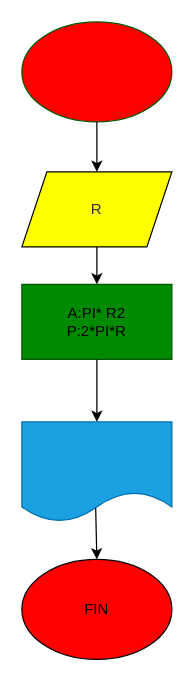
Image size: 194x681. Some labels were removed from this diagram. The shapes that lost their labels are listed below. From the top down, each one's centre as x and y in pixels, then its label:
At point (96, 71): "INICIO".
At point (96, 471): "A, P".
